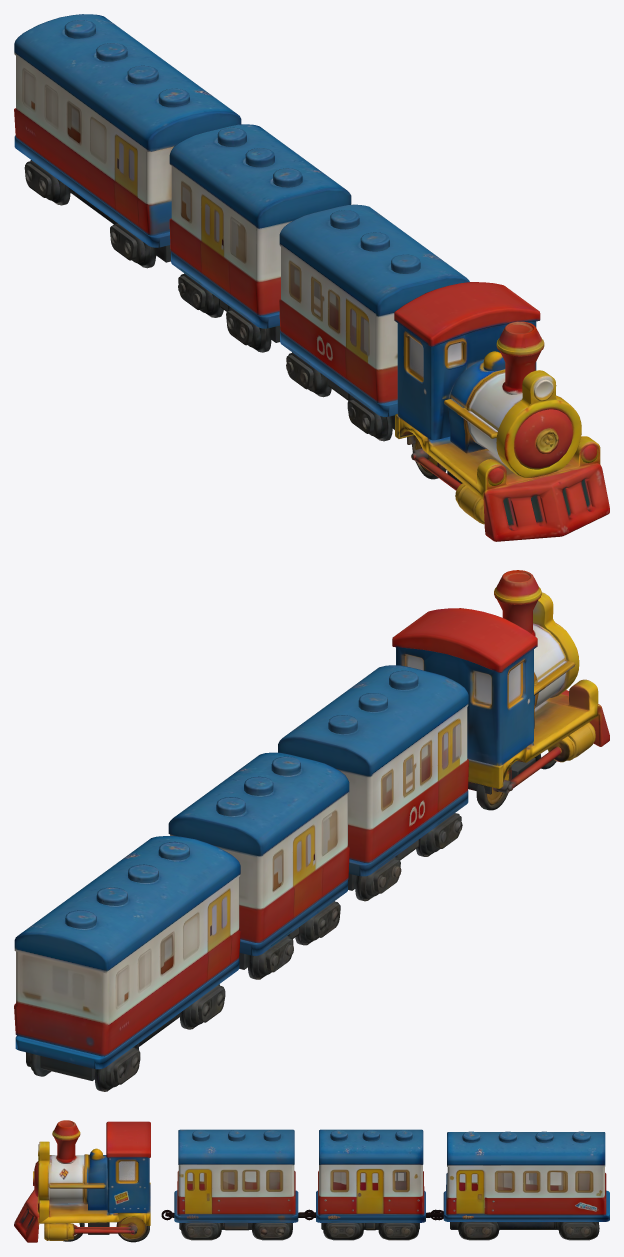
File: train.glb
The picture shows the model from 3 angles, top to bottom: view 1: azimuth 30°, elevation 25°; view 2: azimuth 150°, elevation 25°; view 3: azimuth 270°, elevation 25°; orthographic projection. The views are drawn at different scales.
Visible parts, largest first — view 1: tripo_3f3dfdd0_60b3_492f_97d0_aba9784f5058; view 2: tripo_3f3dfdd0_60b3_492f_97d0_aba9784f5058; view 3: tripo_3f3dfdd0_60b3_492f_97d0_aba9784f5058.
Part boxes in pixels (x1,y1,x2,y2): tripo_3f3dfdd0_60b3_492f_97d0_aba9784f5058: [14, 14, 609, 541]; tripo_3f3dfdd0_60b3_492f_97d0_aba9784f5058: [14, 570, 609, 1091]; tripo_3f3dfdd0_60b3_492f_97d0_aba9784f5058: [14, 1120, 609, 1242].
Size of the model in its own units: 0.1459 by 0.1978 by 0.9995.
Materials: 1 (1 with a texture image).
